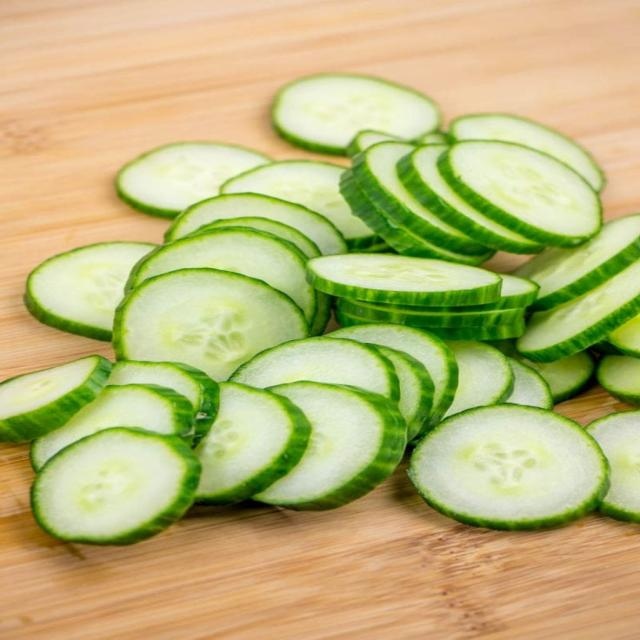cucumber sliced: (410, 405, 608, 529), (114, 269, 307, 380), (254, 382, 406, 510), (32, 428, 199, 544), (127, 228, 315, 323), (438, 141, 601, 246), (397, 145, 542, 253), (352, 142, 486, 255), (340, 170, 494, 265), (195, 383, 311, 504), (31, 385, 193, 470), (272, 74, 440, 154), (25, 242, 155, 341), (329, 324, 458, 423), (221, 161, 373, 243), (517, 260, 639, 362), (450, 113, 604, 190), (515, 215, 639, 310), (116, 142, 270, 217), (165, 194, 346, 254), (230, 337, 399, 401), (307, 254, 501, 305), (0, 356, 111, 442), (108, 361, 219, 436), (367, 274, 537, 315), (587, 410, 639, 522), (374, 345, 433, 441), (337, 299, 524, 328), (198, 217, 320, 258), (446, 342, 513, 416), (518, 351, 595, 404), (399, 318, 525, 341), (505, 358, 553, 409), (423, 320, 525, 341), (596, 356, 639, 405), (493, 274, 539, 308), (347, 130, 399, 156), (607, 316, 639, 357), (309, 291, 333, 336), (359, 238, 395, 253), (349, 236, 385, 251), (590, 341, 625, 355), (416, 132, 449, 145)
